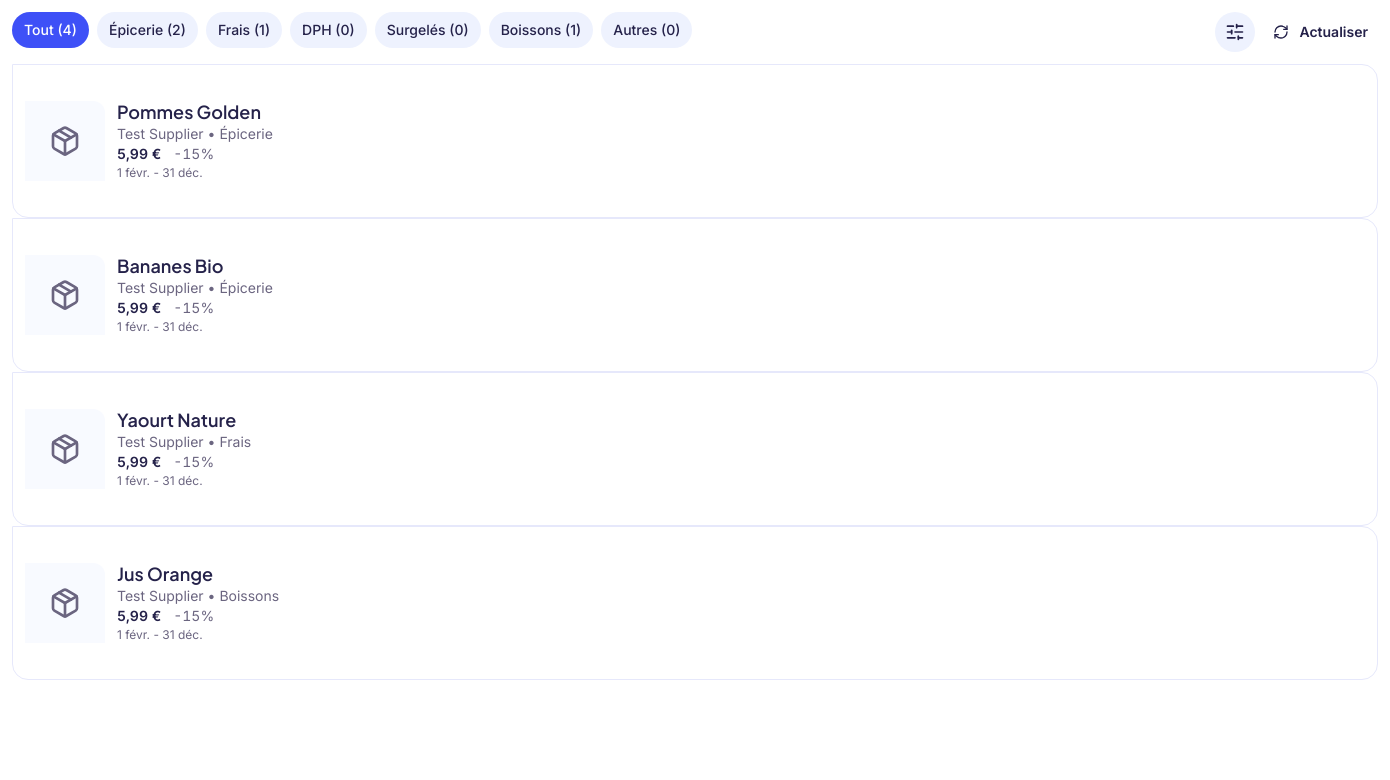
StoreOfferList › filters offers when a category chip is clicked
What coordinates should you click on to do the following:
click the radio button "Frais (1)"
I would click on:
 (244, 30)
Its box is [206, 12, 282, 48].
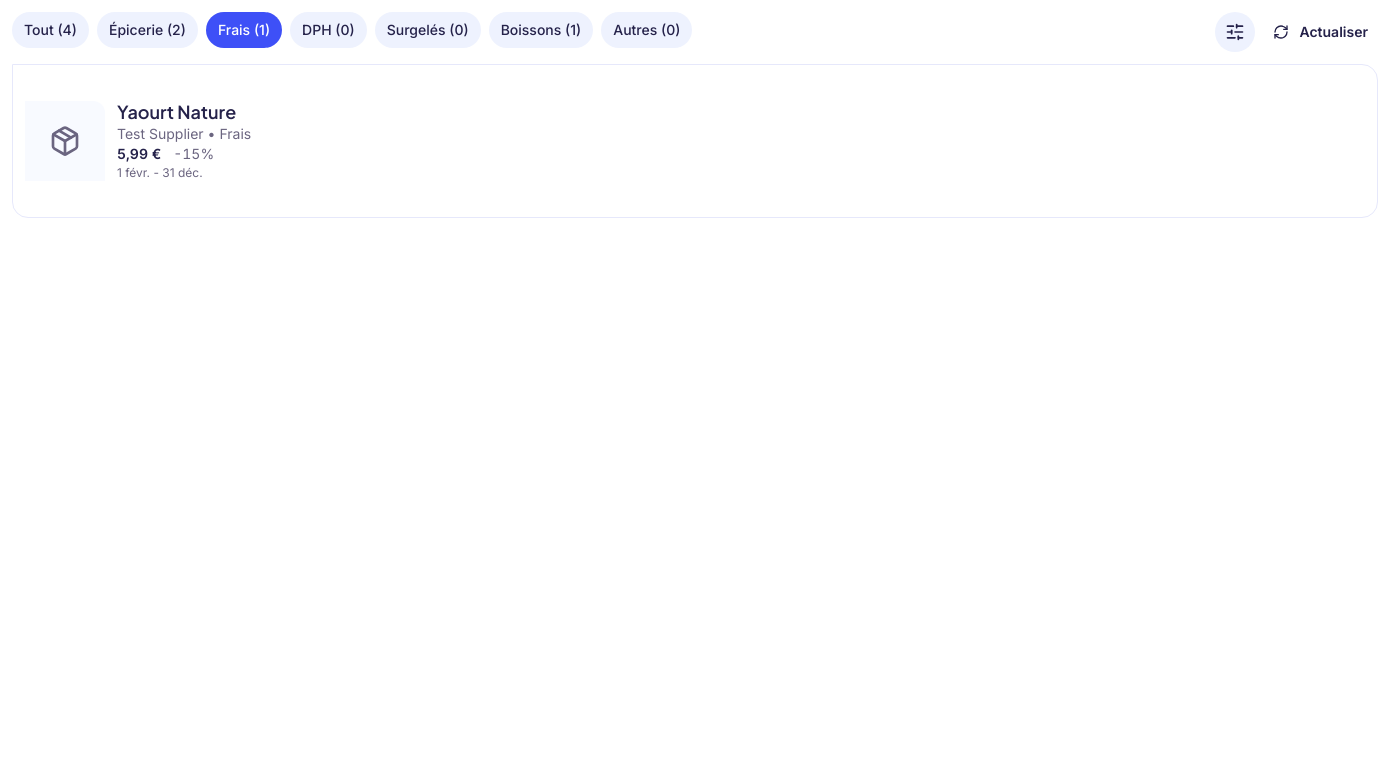
Expected: the link "Pommes Golden" is gone
Expected: the link "Bananes Bio" is gone
Expected: the link "Jus Orange" is gone
